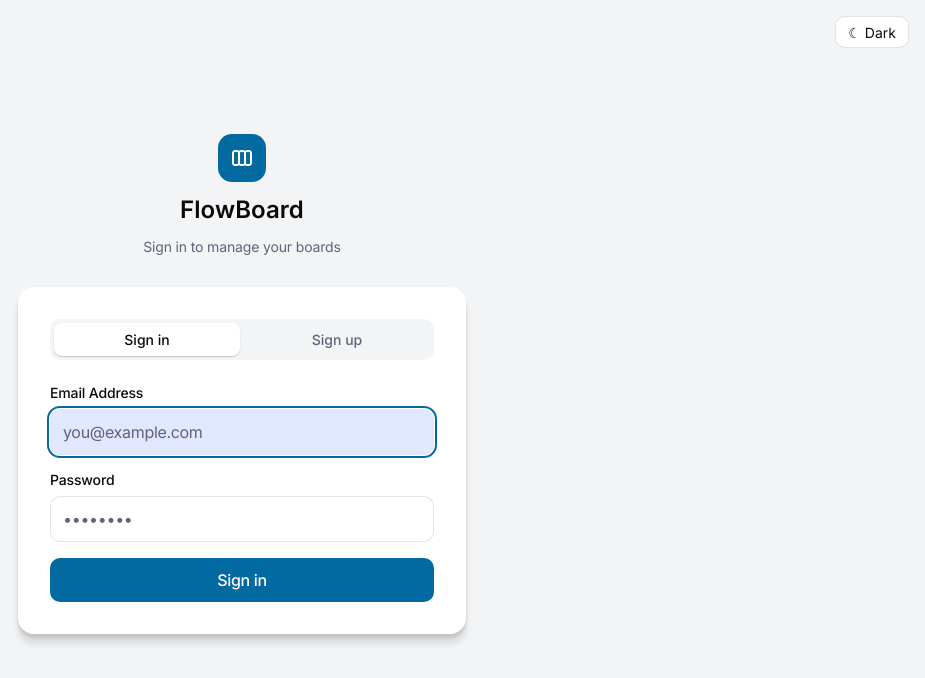
sign in › switches to sign up and creates an account
Expected: the heading "FlowBoard" is shown, [180, 194, 304, 226]
Click the button "Sign up": [337, 340] box [244, 323, 430, 356]
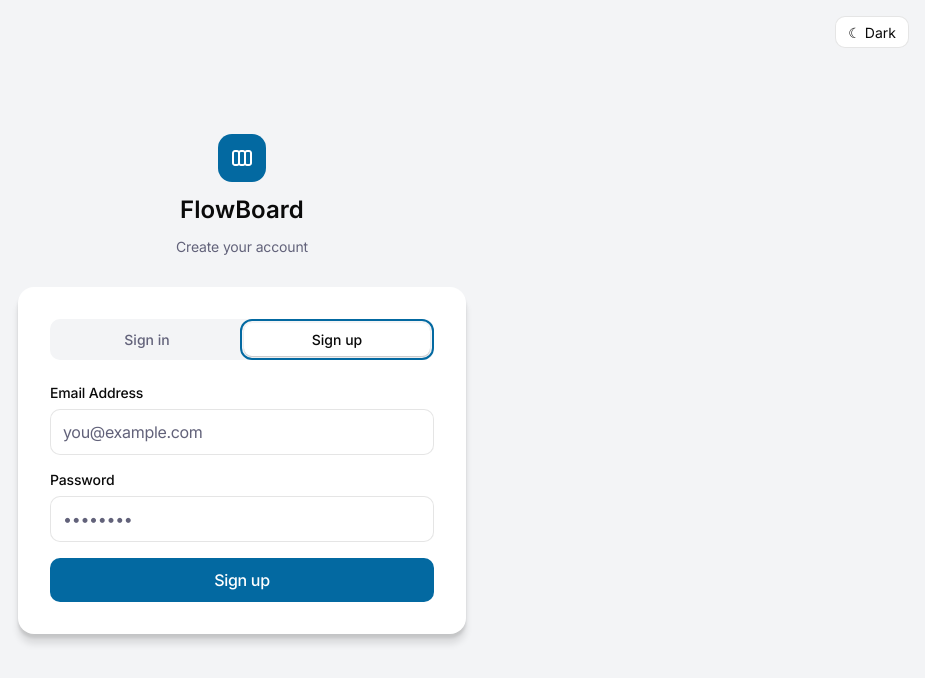
In the field labelled "Email Address": [242, 432] box [50, 409, 434, 455], type "new@example.com"
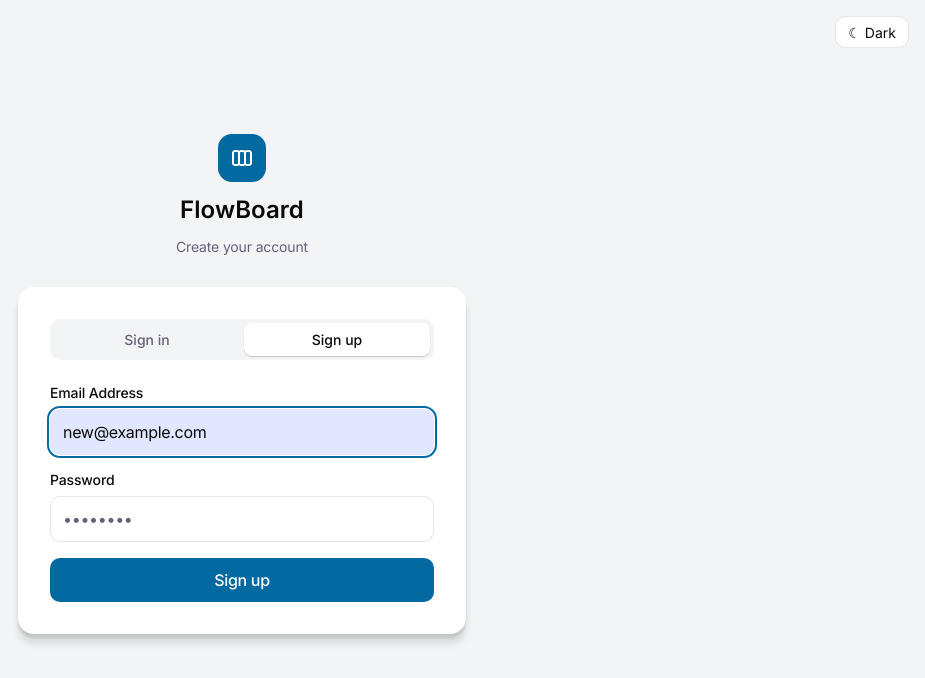
In the password field labelled "Password": [242, 519] box [50, 496, 434, 542], type "long-enough-pw"
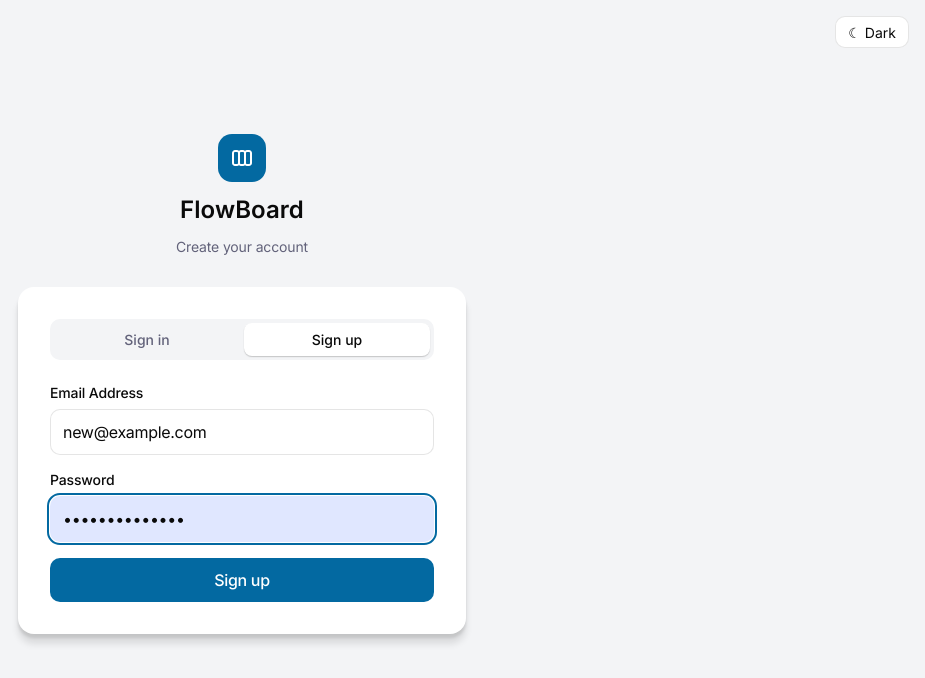
Press Enter
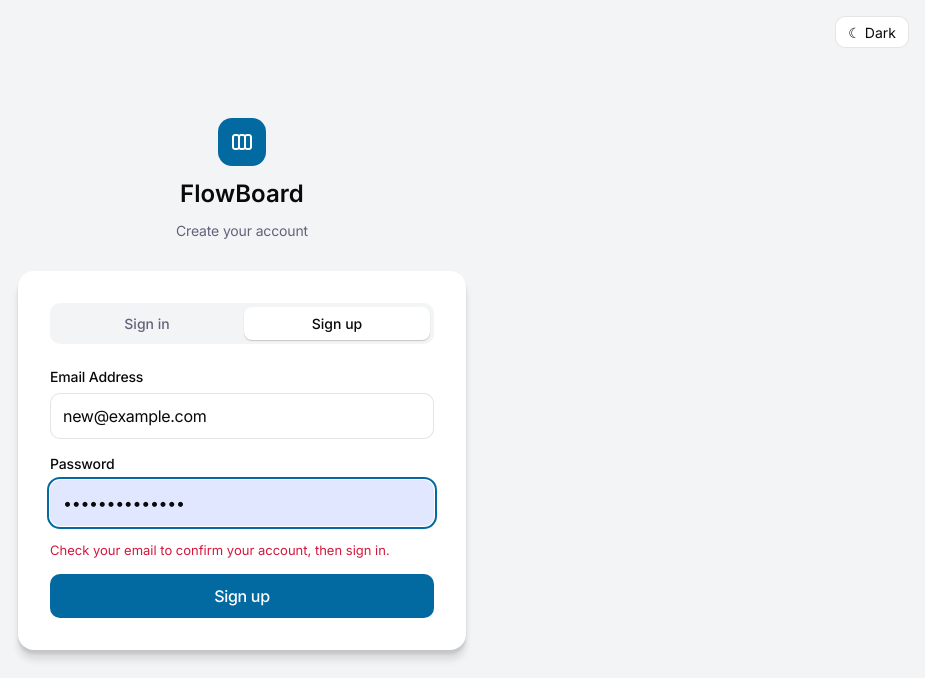
Now the message shows "Check your email", box [50, 542, 390, 558]
